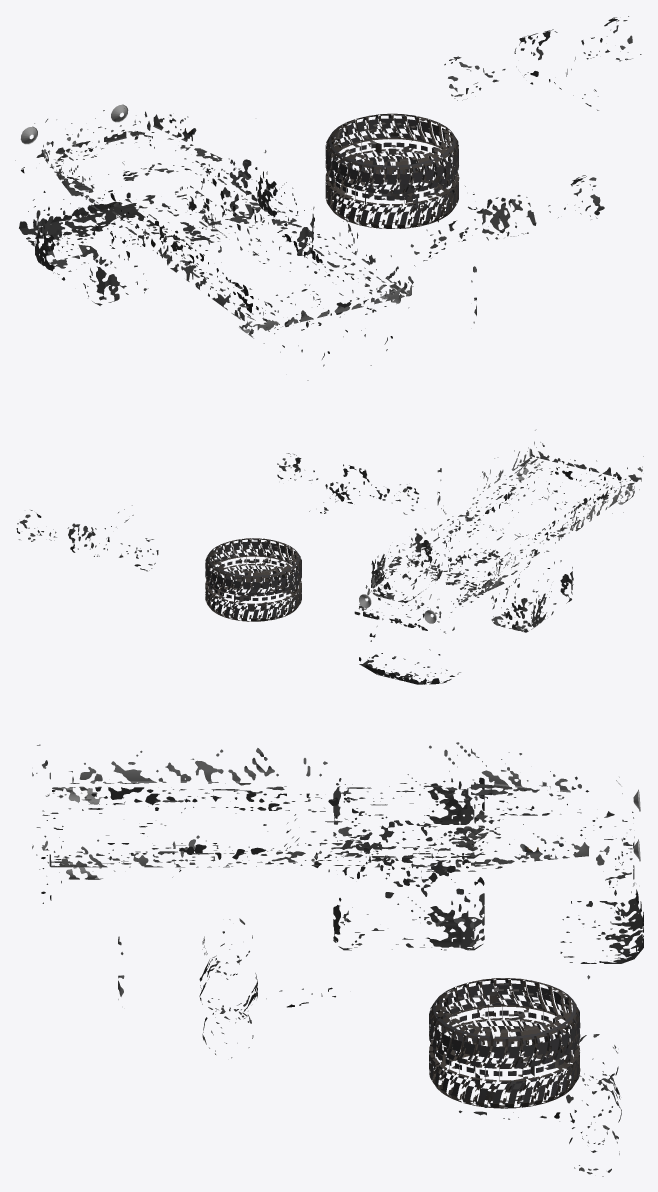
The model's file is largecar.fbx.
The picture shows the model from 3 angles, top to bottom: view 1: azimuth 30°, elevation 25°; view 2: azimuth 150°, elevation 25°; view 3: azimuth 270°, elevation 25°; orthographic projection. The views are drawn at different scales.
Parts seen in each view (by area): view 1: largecar_body, largecar_tyre, largecar_axle_mid, largecar_axle_front; view 2: largecar_body, largecar_tyre, largecar_axle_mid, largecar_axle_front; view 3: largecar_body, largecar_tyre, largecar_axle_front, largecar_axle_mid.
Part boxes in pixels (<box>): largecar_body: <box>15,108,415,380</box>; largecar_tyre: <box>325,113,459,228</box>; largecar_axle_mid: <box>410,175,604,261</box>; largecar_axle_front: <box>444,16,641,110</box>; largecar_body: <box>354,429,643,684</box>; largecar_tyre: <box>205,538,301,621</box>; largecar_axle_mid: <box>277,453,418,514</box>; largecar_axle_front: <box>16,505,158,571</box>; largecar_body: <box>32,742,643,963</box>; largecar_tyre: <box>429,978,580,1108</box>; largecar_axle_front: <box>459,1034,621,1176</box>; largecar_axle_mid: <box>199,918,335,1058</box>.
Size of the model in its own units: 639 by 165 by 473.
4 materials, 3 textured.
